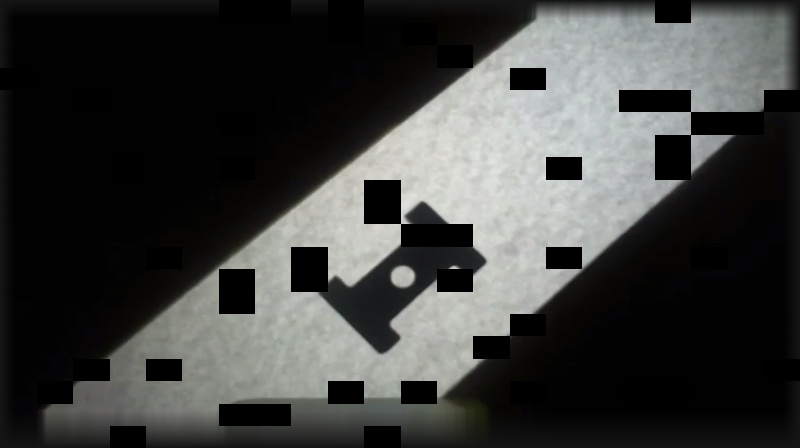O002: (314, 199, 491, 356)
